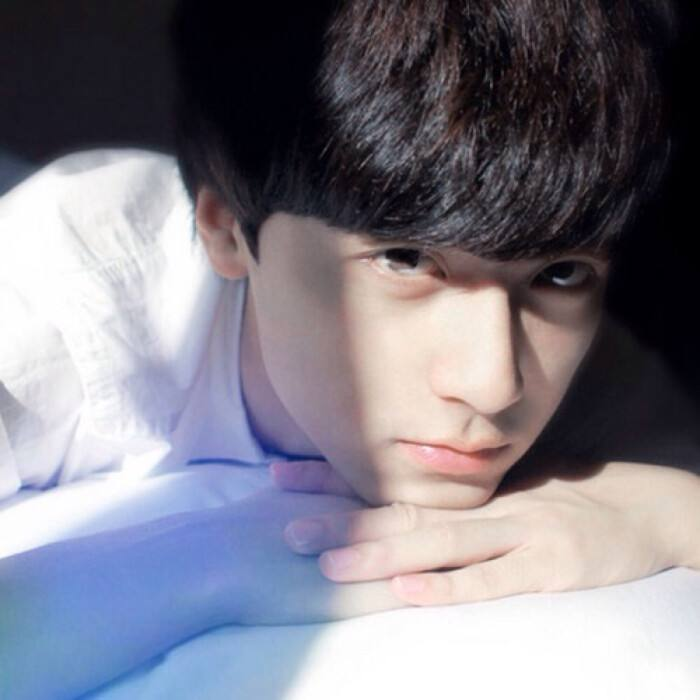person: (133, 3, 664, 448)
